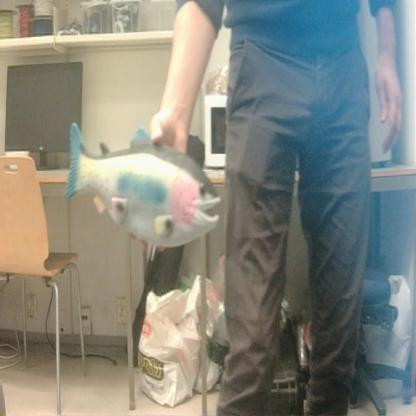rubberfish: (61, 117, 227, 252)
